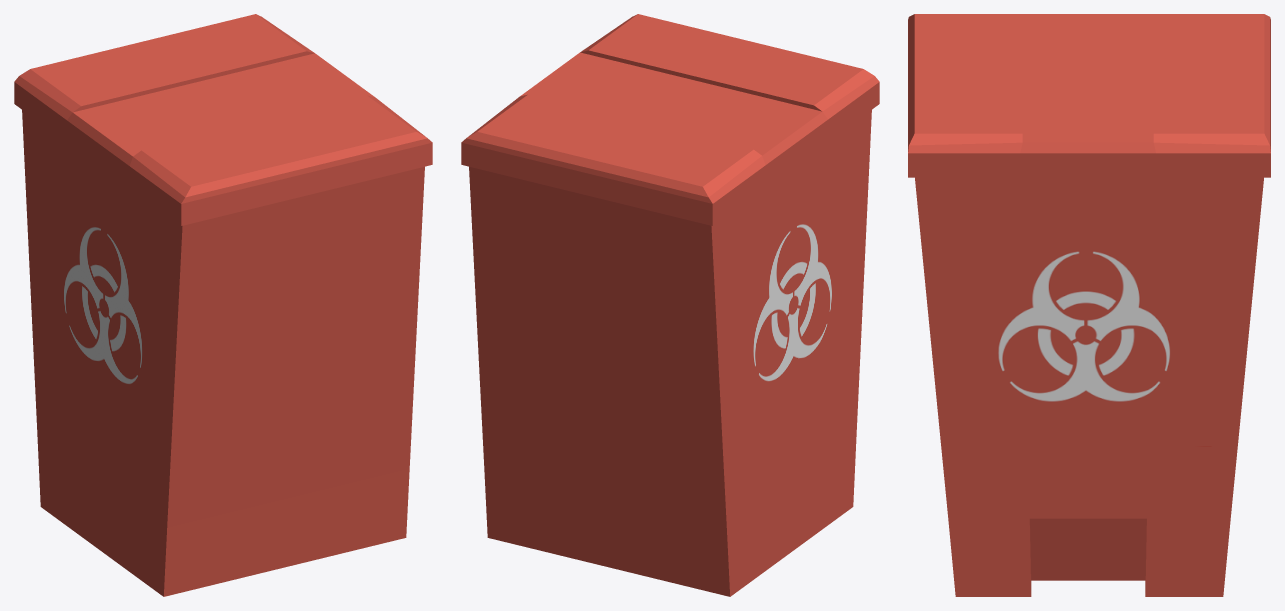
The model's file is mesh_trashcan.obj.
3 views of the same model, side by side, from view 1: azimuth 30°, elevation 25°; view 2: azimuth 150°, elevation 25°; view 3: azimuth 270°, elevation 25° (orthographic). The views are drawn at different scales.
Visible parts, largest first — view 1: Cube; view 2: Cube; view 3: Cube.
Boxes of the visible parts, bbox=[...] form: Cube: bbox=[14, 14, 432, 596]; Cube: bbox=[461, 14, 879, 596]; Cube: bbox=[908, 14, 1270, 596].
Size of the model in its own units: 2.07 by 3.33 by 2.38.
Materials: 1 (1 with a texture image).
